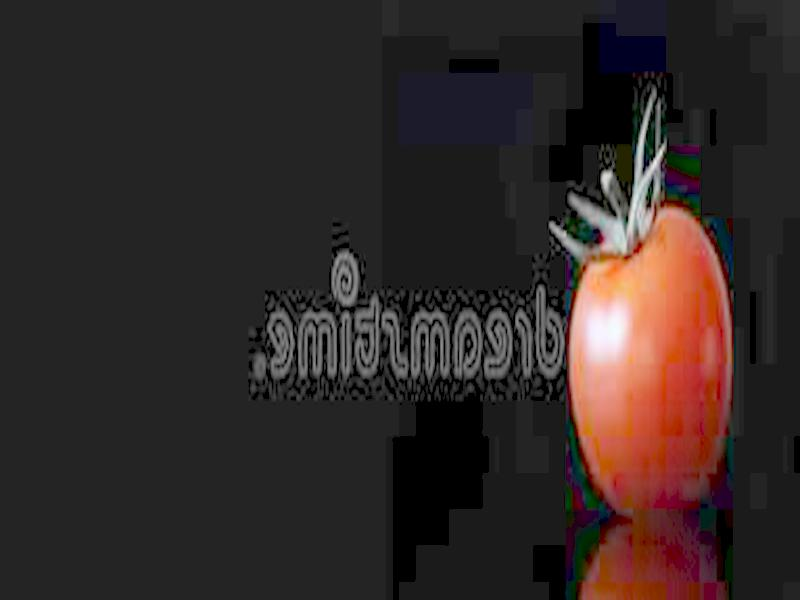Tomato: (569, 205, 730, 509)
